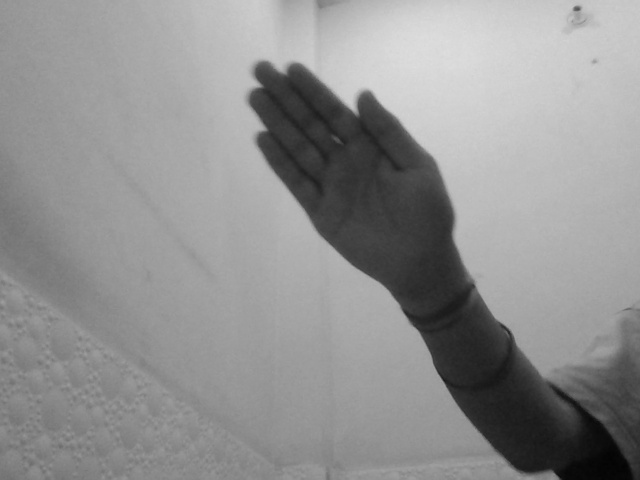Hello: (238, 56, 471, 302)
